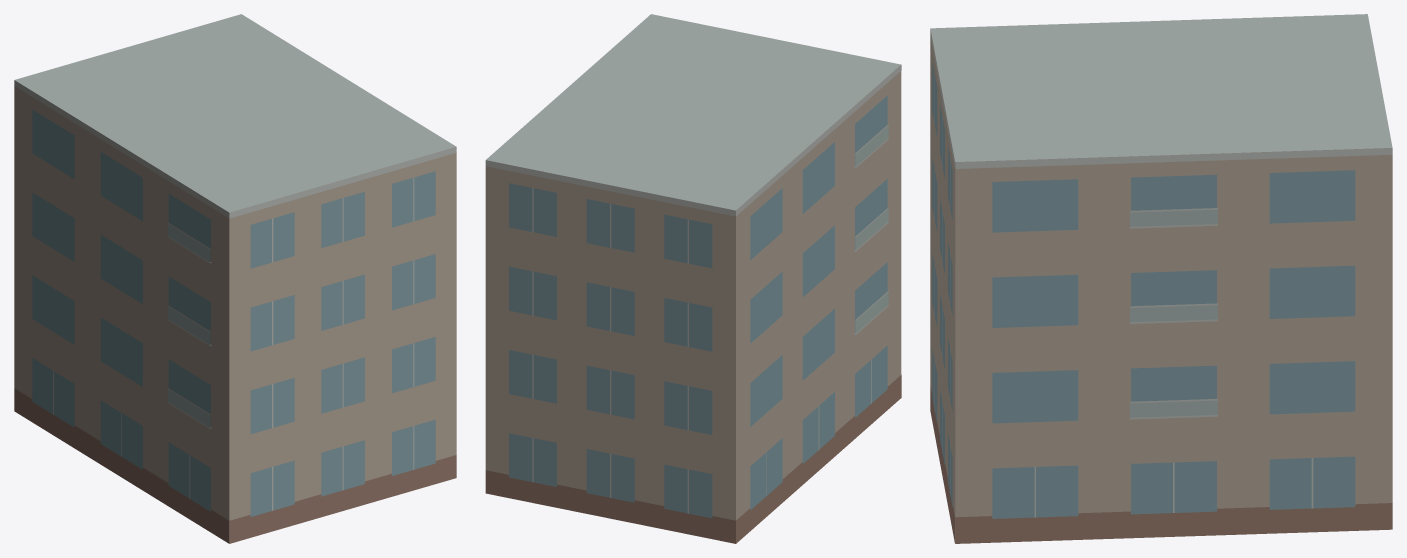
File: survey-upis-32782032.glb
The picture shows the model from 3 angles, left to right: view 1: azimuth 30°, elevation 25°; view 2: azimuth 150°, elevation 25°; view 3: azimuth 270°, elevation 25°; orthographic projection. The views are drawn at different scales.
Visible parts, largest first — view 1: survey-upis-32782032.tmp; view 2: survey-upis-32782032.tmp; view 3: survey-upis-32782032.tmp.
Part boxes in pixels (left/top/right/bottom): survey-upis-32782032.tmp: left=14, top=14, right=456, bottom=543; survey-upis-32782032.tmp: left=485, top=14, right=901, bottom=543; survey-upis-32782032.tmp: left=930, top=14, right=1392, bottom=543.
Bounding box in the file's own units: 11.28 × 13.55 × 14.88.
